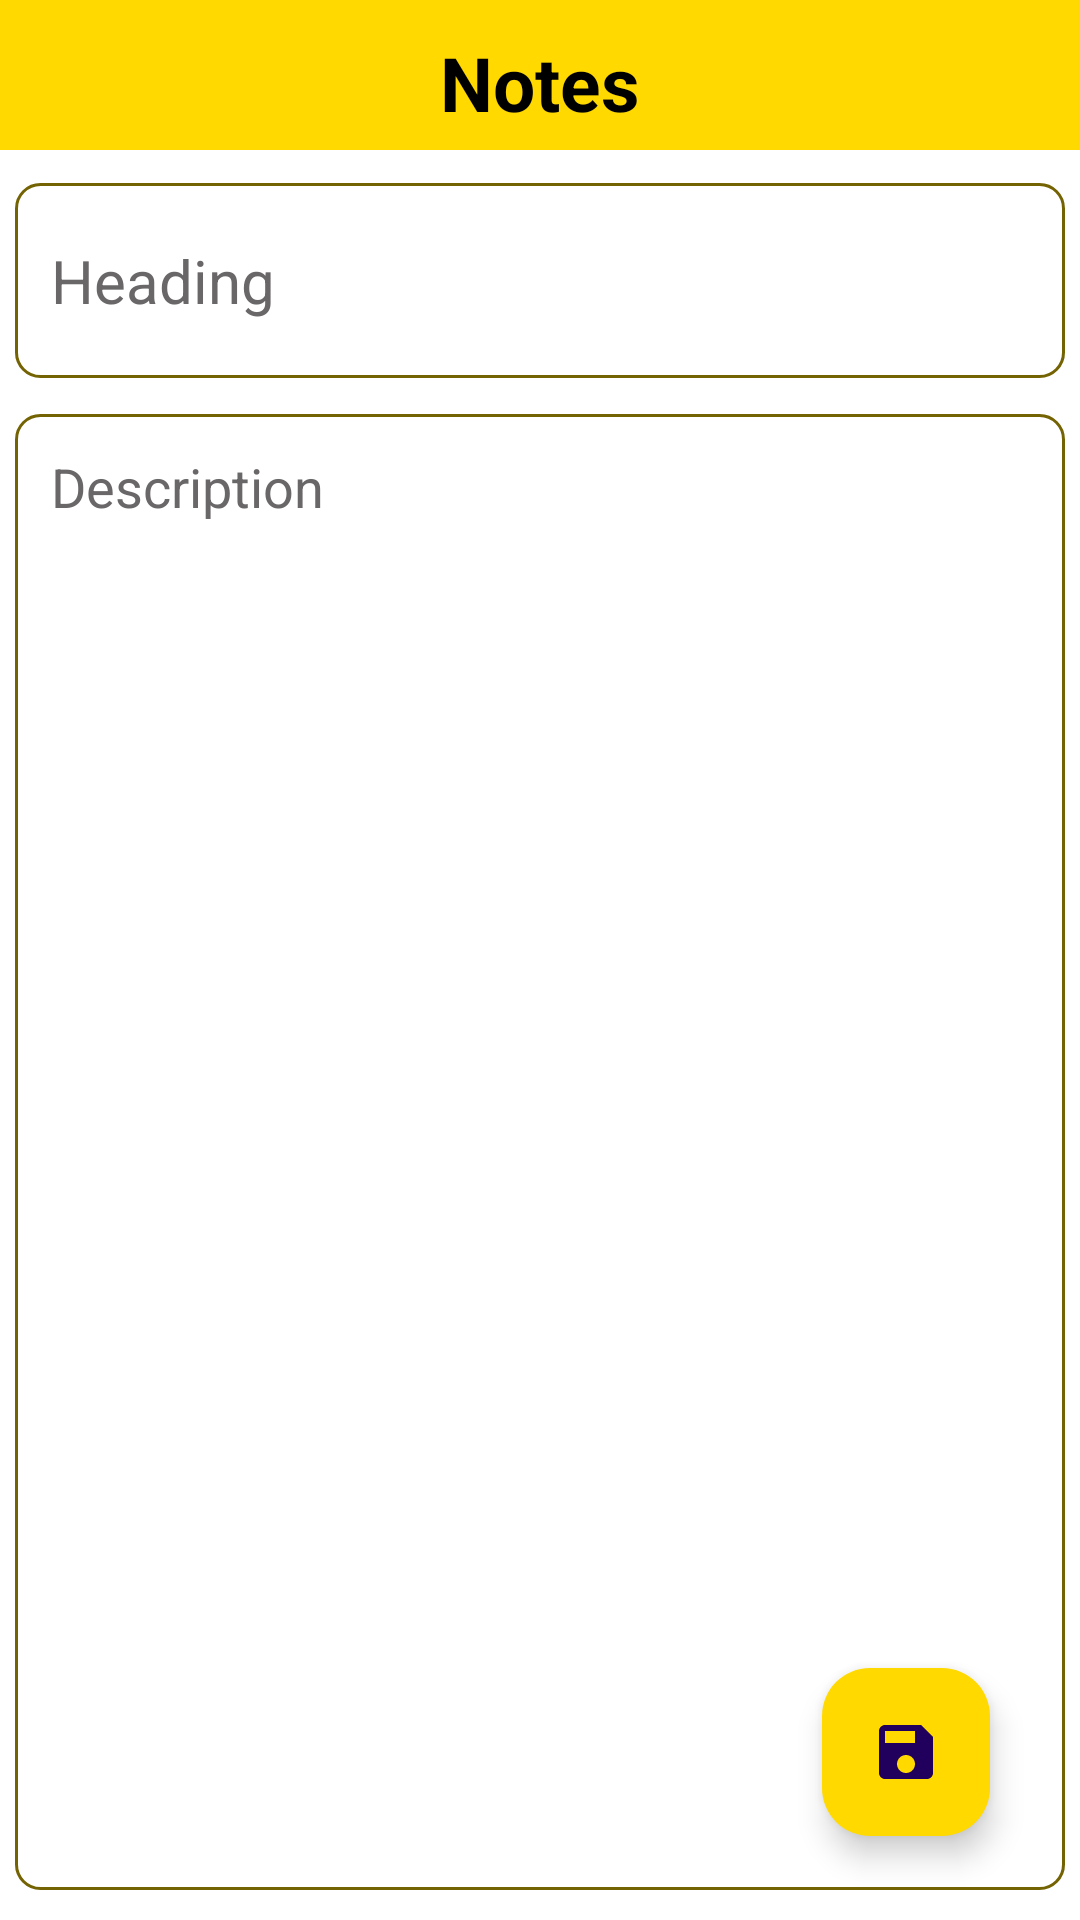

Icons on this 1080 × 1920 Android screen, each with its box as region(x1, y1, x2, y2):
save: region(822, 1668, 990, 1836)
